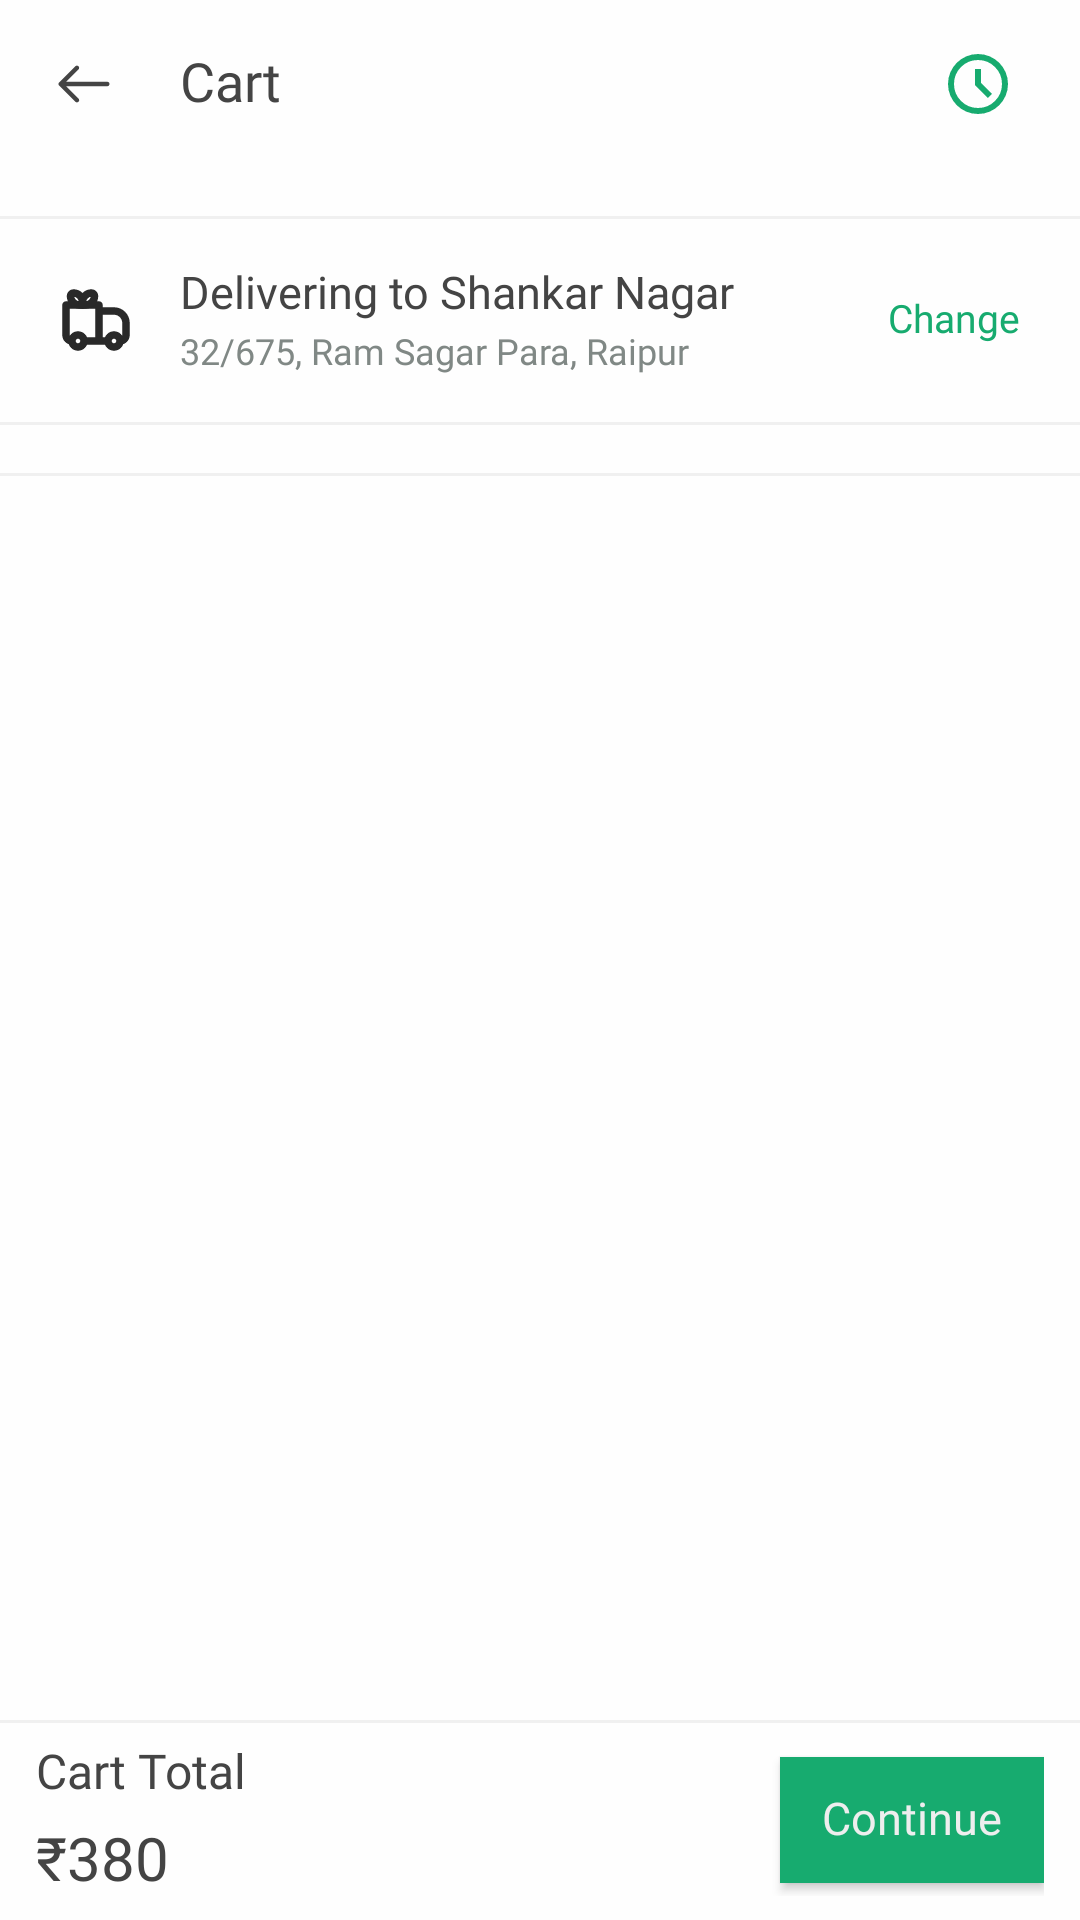

Icons on this 1080px×1920px Android screen, each with the point to tap as (x,y):
delivery: (96,320)
